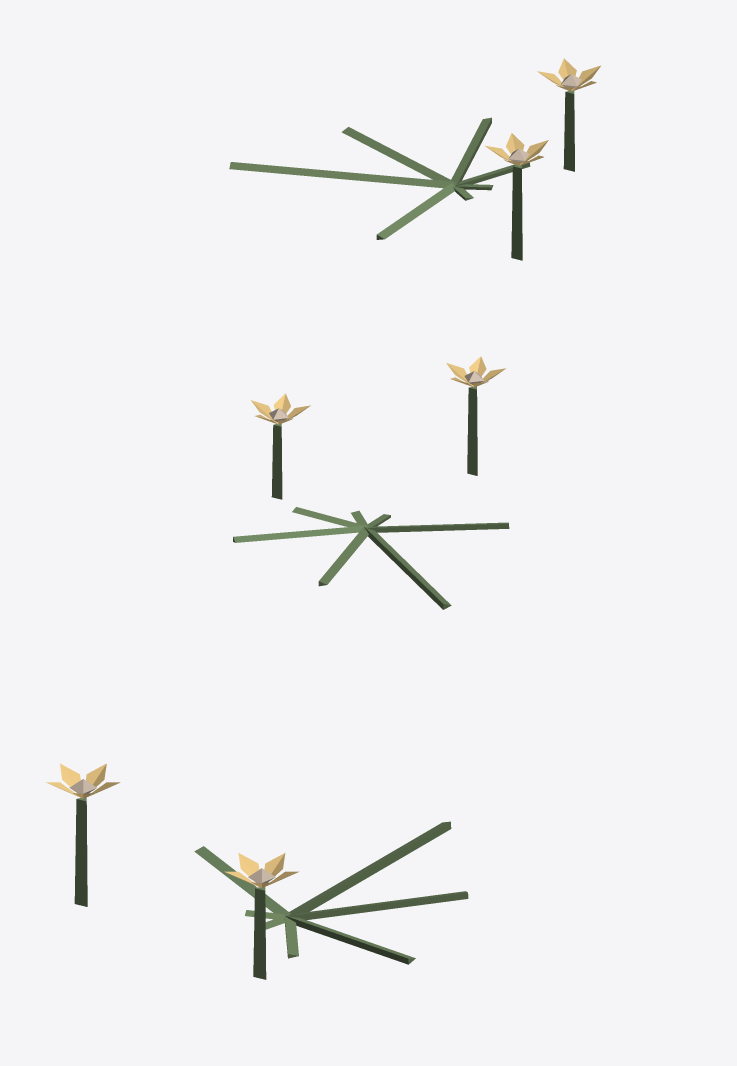
Rendered from shui.pingpeng__summer.glb.
The picture shows the model from 3 angles, top to bottom: view 1: azimuth 30°, elevation 25°; view 2: azimuth 150°, elevation 25°; view 3: azimuth 270°, elevation 25°; orthographic projection. The views are drawn at different scales.
Parts seen in each view (by area): view 1: shui.pingpeng__summer; view 2: shui.pingpeng__summer; view 3: shui.pingpeng__summer.
Part boxes in pixels (left/top/right/bottom): shui.pingpeng__summer: left=229, top=58, right=600, bottom=260; shui.pingpeng__summer: left=233, top=356, right=509, bottom=609; shui.pingpeng__summer: left=46, top=763, right=468, bottom=979.
Size of the model in its own units: 1.28 by 0.2344 by 1.15.
